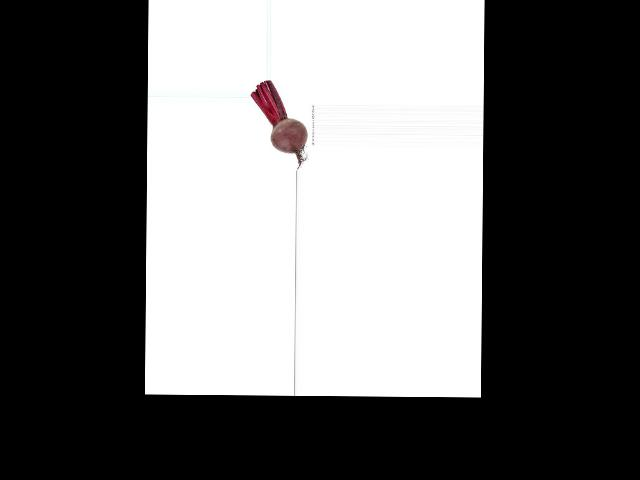beet: (250, 79, 308, 169)
